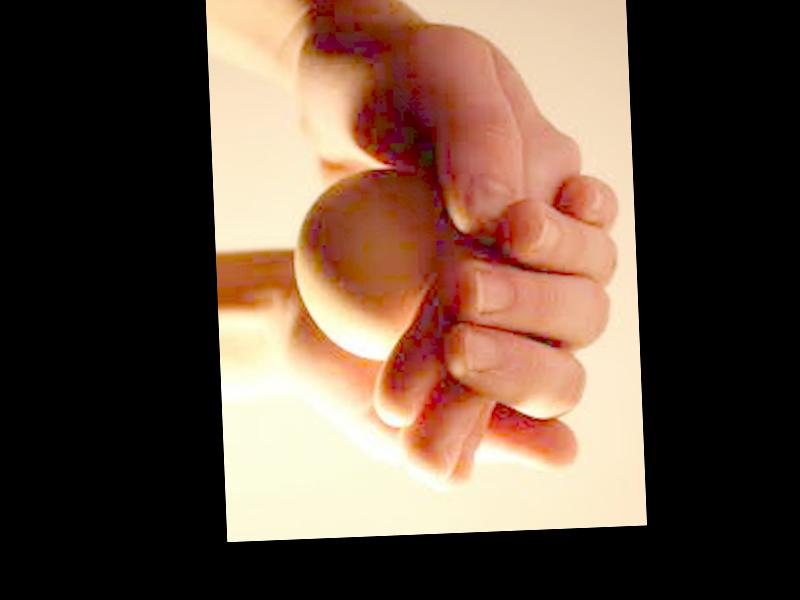Eggs: (290, 164, 445, 363)
